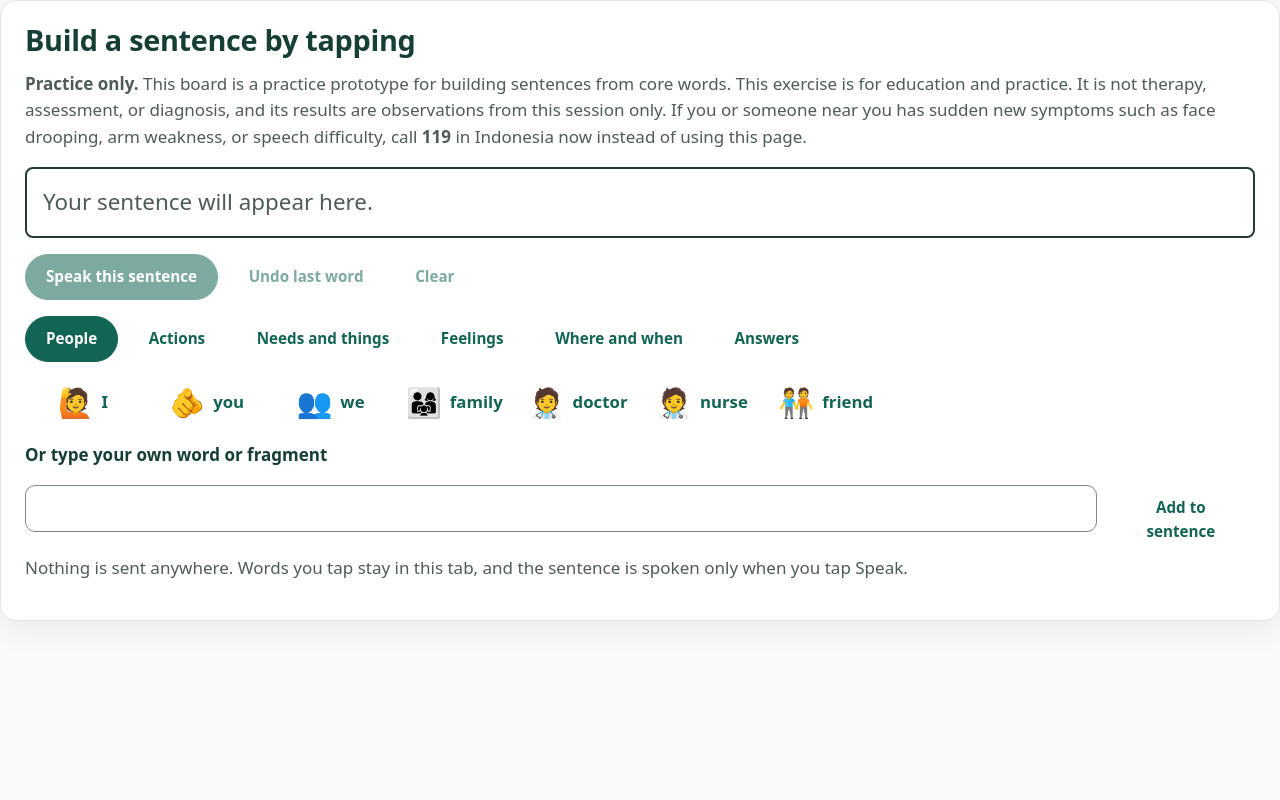
Test: AphasiaCommunicationMode › adds a typed fragment to the sentence
Type "please" into the field labelled "Or type your own word or fragment" at (561, 508), box top-left (25, 485), bottom-right (1097, 532)
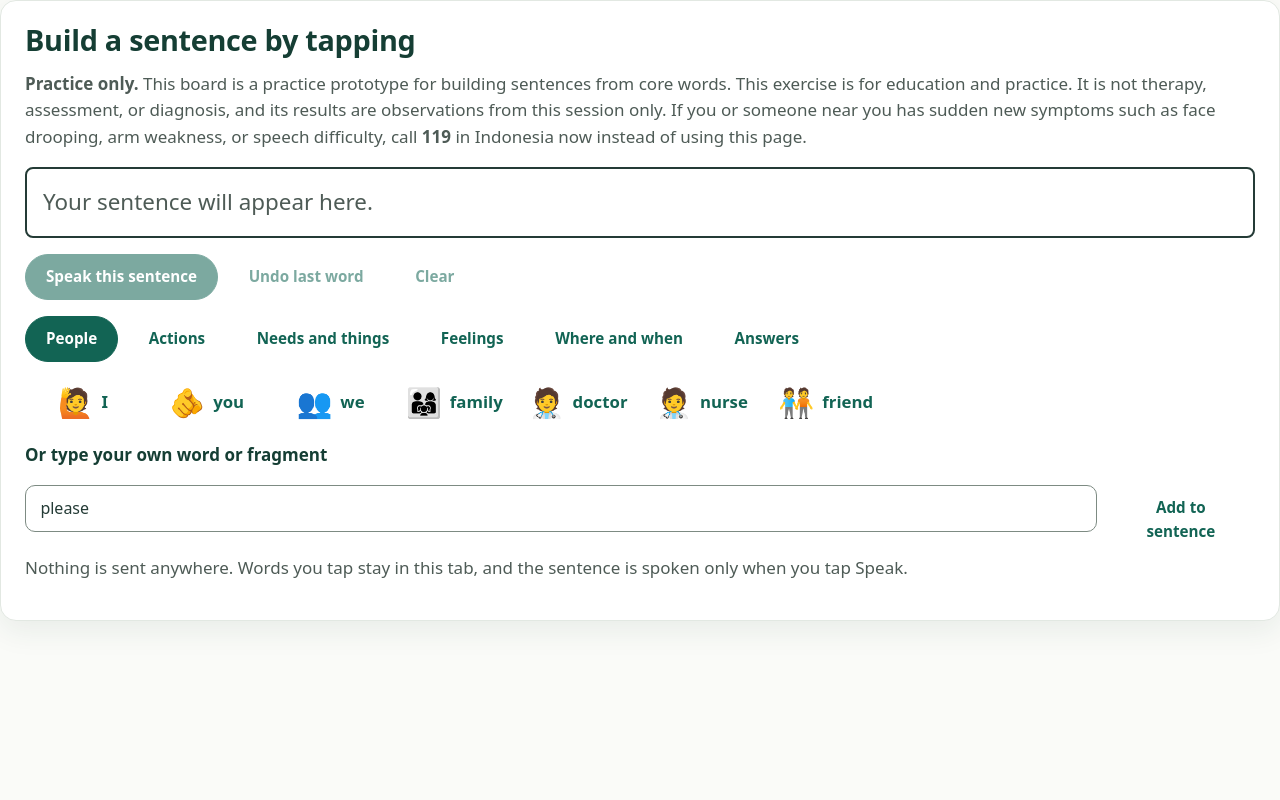
Click the button "Add to sentence" at (1181, 520), box top-left (1107, 485), bottom-right (1255, 555)
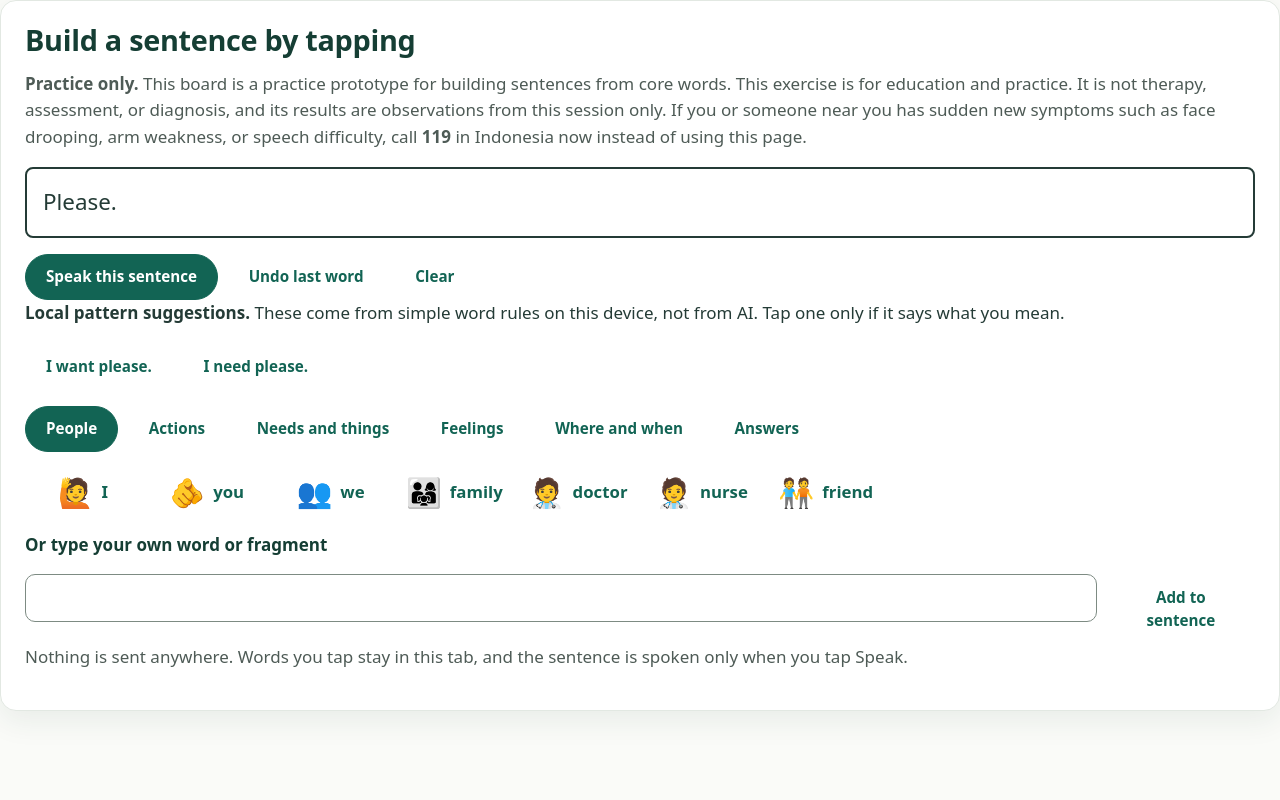
Result: the text "Please." is shown at top-left (25, 167), bottom-right (1255, 238)
